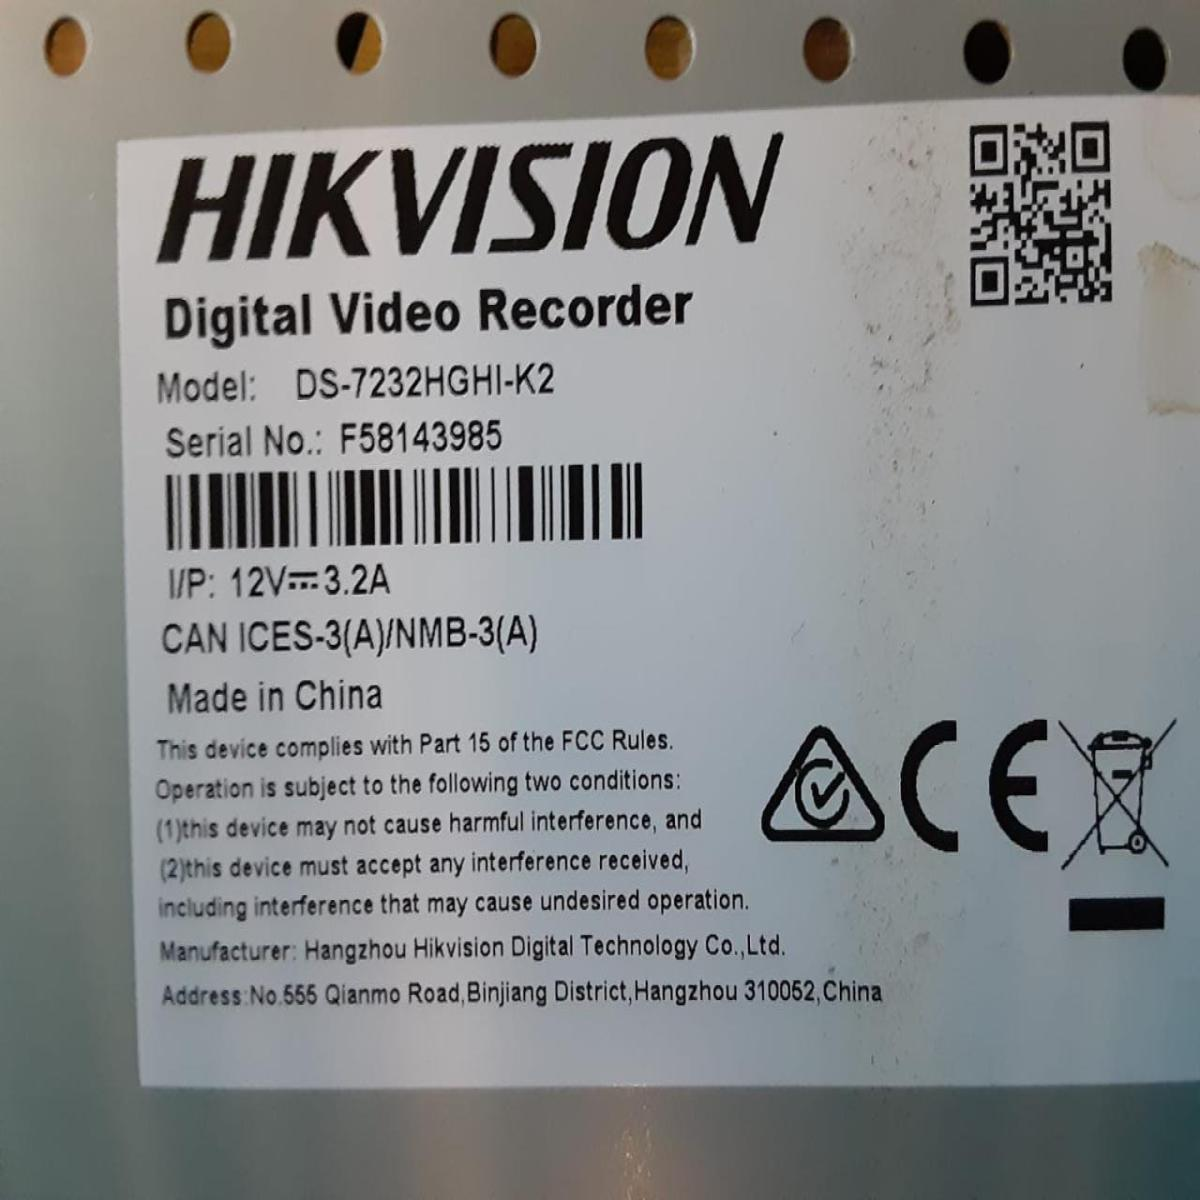Barcode: (159, 451, 659, 560)
Label: (119, 91, 1200, 1089)
